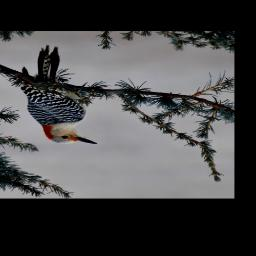Woodpecker: (20, 46, 97, 145)
